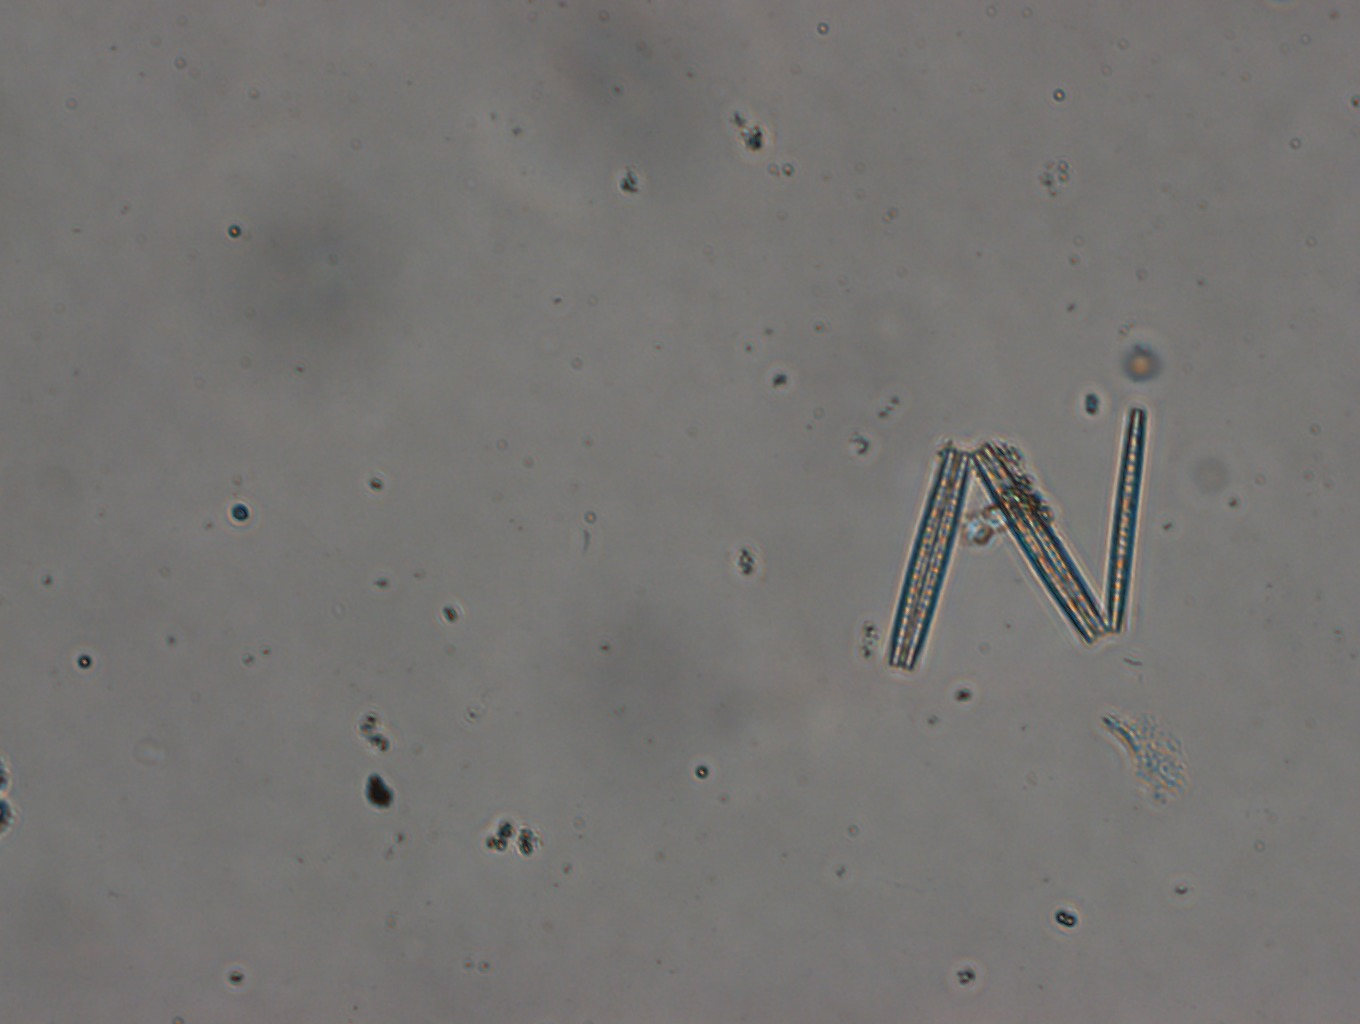thalassionema nitzschioides: (887, 406, 1150, 673)
